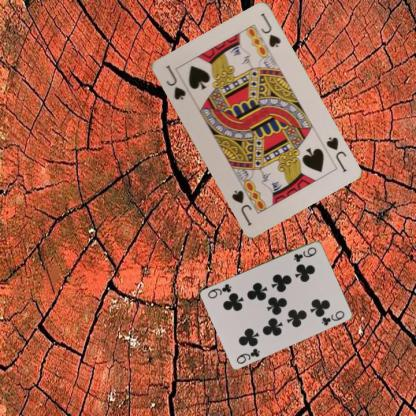9c: (291, 245, 318, 264), (234, 346, 261, 365)
Js: (162, 62, 188, 101), (323, 134, 348, 173)
